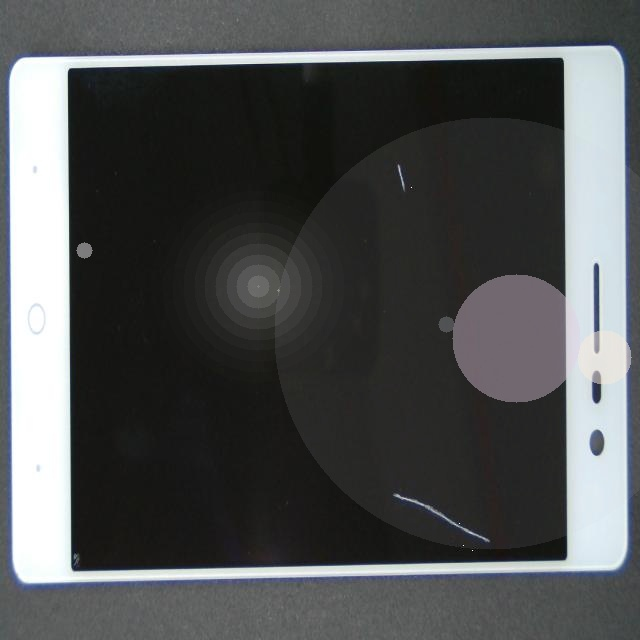scratch: (137, 228, 624, 640), (204, 52, 587, 248)
